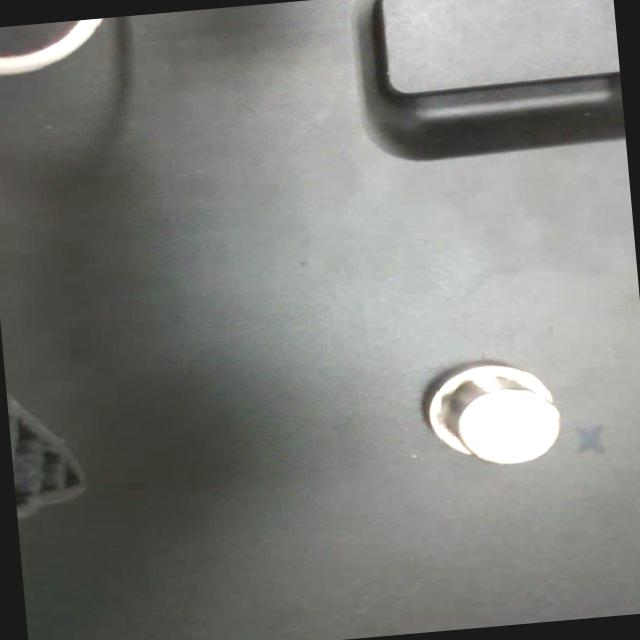sensor: (420, 357, 566, 473)
